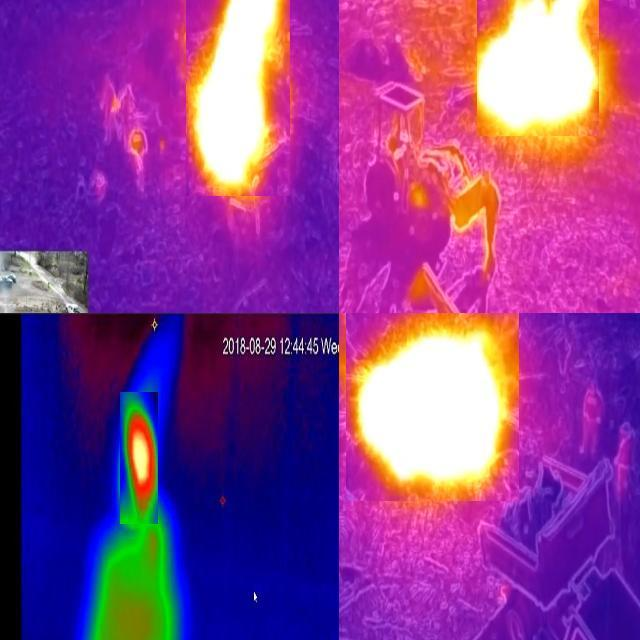fire: (347, 314, 520, 502), (187, 1, 291, 197), (478, 1, 600, 137), (121, 393, 159, 525)
